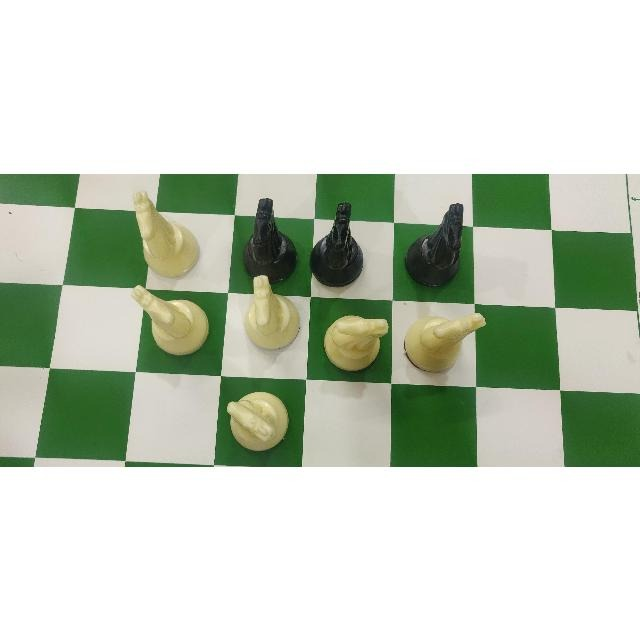black-knight: (399, 188, 478, 291), (311, 193, 376, 288), (237, 194, 306, 282)
white-knight: (126, 284, 217, 372), (127, 189, 209, 283), (231, 275, 306, 370), (402, 306, 490, 384), (225, 386, 299, 461), (323, 304, 389, 382)
